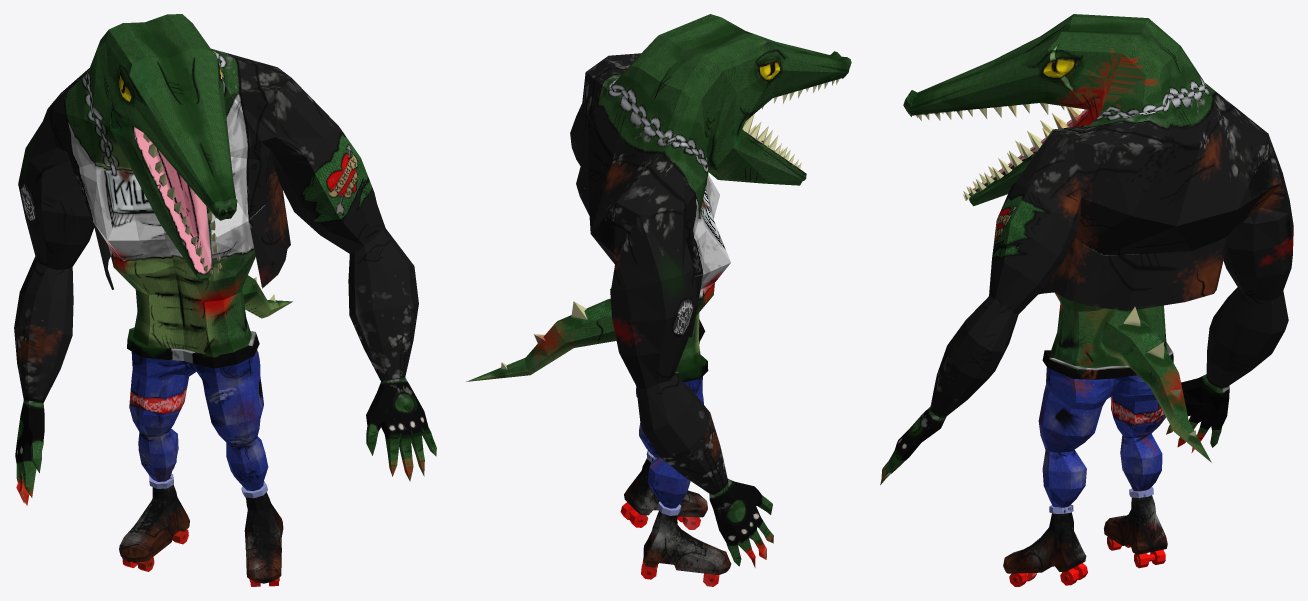
File: cocodrilaBonesSelect_000011.obj
The picture shows the model from 3 angles, left to right: view 1: azimuth 30°, elevation 25°; view 2: azimuth 150°, elevation 25°; view 3: azimuth 270°, elevation 25°; orthographic projection. The views are drawn at different scales.
Visible parts, largest first — view 1: Crocodile.002_Cylinder.002; view 2: Crocodile.002_Cylinder.002; view 3: Crocodile.002_Cylinder.002.
Boxes of the visible parts, x1=… form: Crocodile.002_Cylinder.002: x1=14, y1=14, x2=436, y2=586; Crocodile.002_Cylinder.002: x1=466, y1=14, x2=851, y2=586; Crocodile.002_Cylinder.002: x1=880, y1=14, x2=1293, y2=586.
Bounding box in the file's own units: 3.74 × 6.65 × 4.71.
